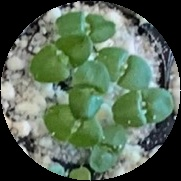Basil: (28, 38, 89, 82), (66, 61, 109, 120), (113, 88, 173, 127), (98, 50, 153, 89), (46, 105, 97, 147), (91, 122, 126, 170), (60, 14, 114, 43)
